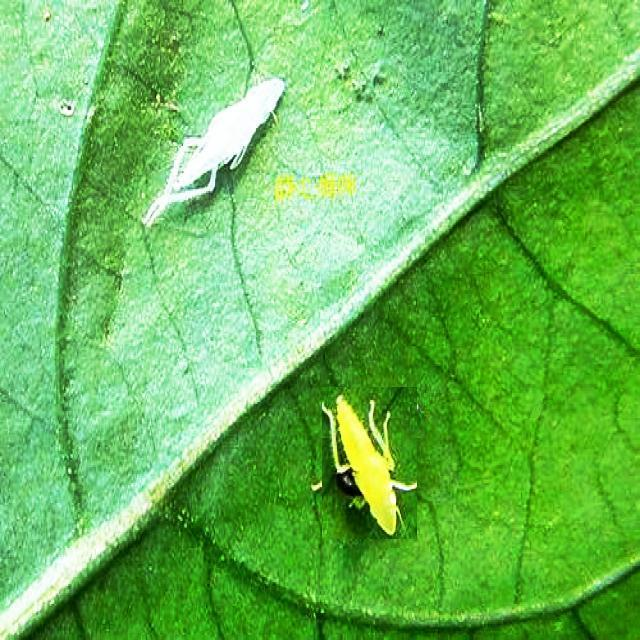green-leafhopper: (322, 387, 417, 539)
